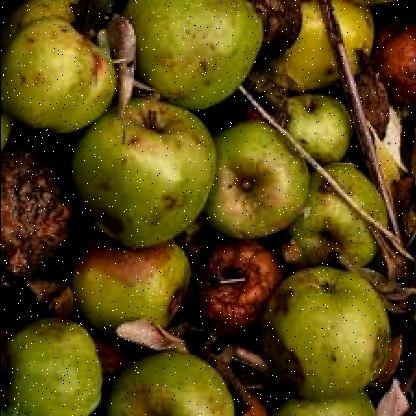damaged_apple: (85, 104, 215, 242), (274, 268, 396, 394), (131, 2, 263, 111), (76, 231, 194, 342), (285, 164, 399, 276), (13, 17, 115, 131), (214, 126, 309, 236), (8, 314, 102, 409)
